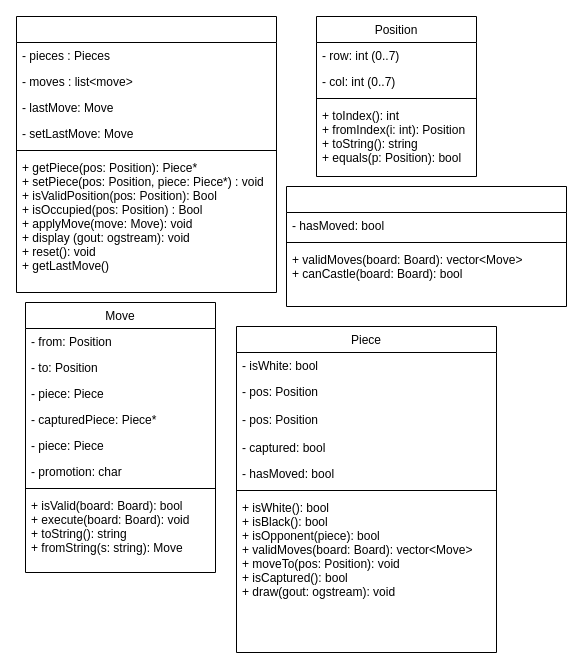
Image size: 583x669. Some labels were removed from this diagram. Each missing label, with the box of its shape:
Board: (16, 16, 276, 292)
King: (286, 186, 566, 306)
